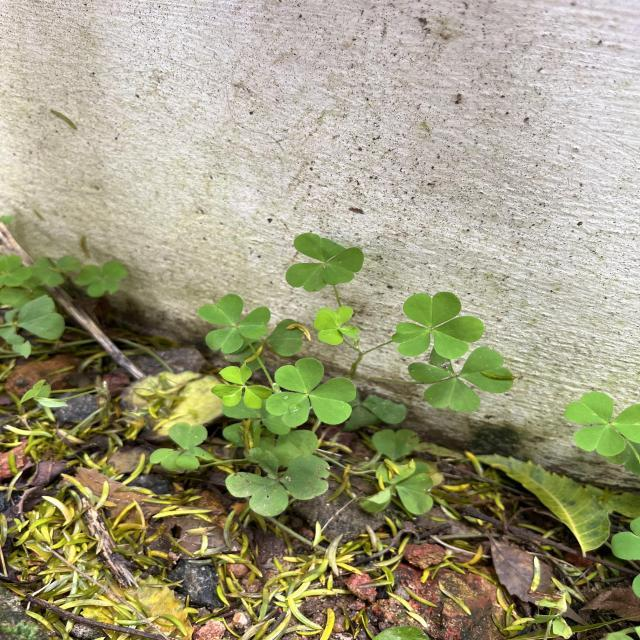Oxalis corniculata: (224, 446, 332, 518), (407, 346, 514, 414), (265, 356, 356, 429), (392, 290, 484, 360), (563, 390, 640, 458), (284, 232, 365, 292), (196, 292, 271, 354), (210, 361, 272, 410), (313, 305, 362, 346)
